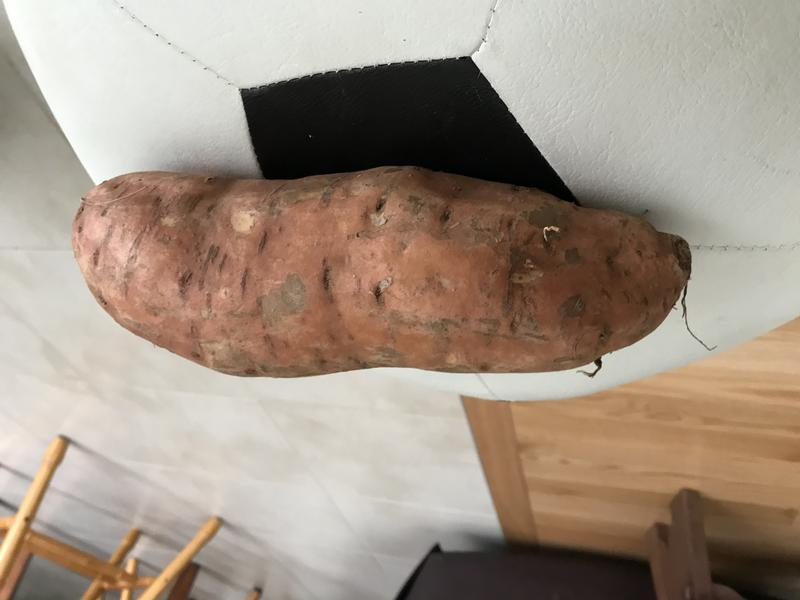sweet_potato: (67, 155, 725, 384)
